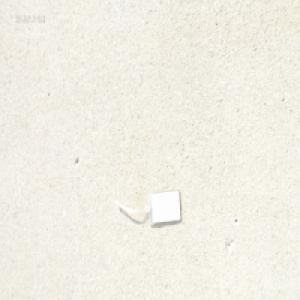LuggageTag: (110, 185, 181, 227)
